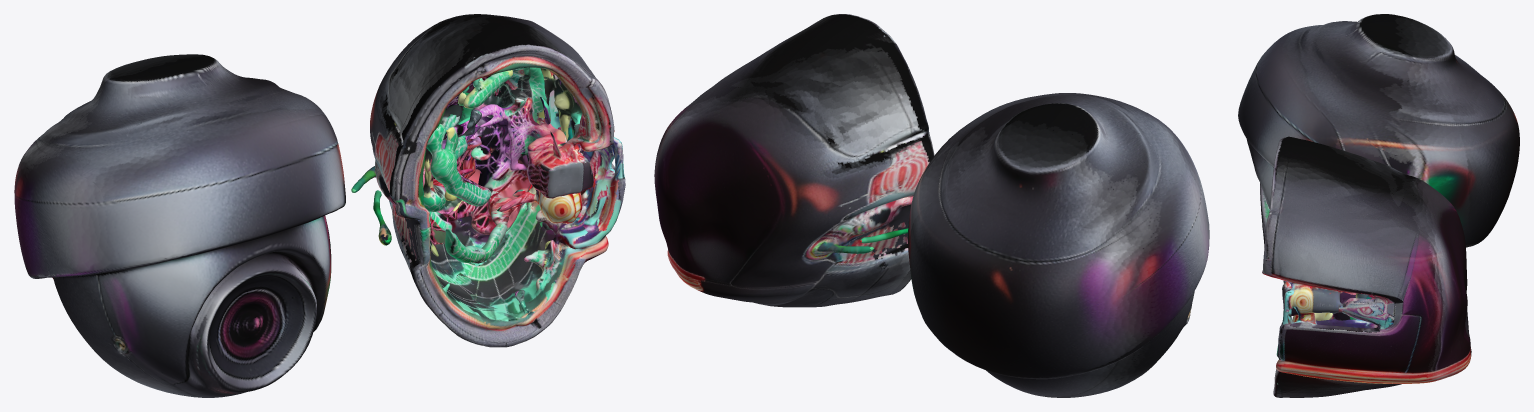
3 renders of one model, left to right at view 1: azimuth 30°, elevation 25°; view 2: azimuth 150°, elevation 25°; view 3: azimuth 270°, elevation 25°, orthographic. The views are drawn at different scales.
Parts seen in each view (by area): view 1: Mesh, Mesh.001, Mesh.003; view 2: Mesh, Mesh.001; view 3: Mesh.001, Mesh.
Part boxes in pixels (x1,y1,x2,y2): Mesh: [14, 54, 345, 397]; Mesh.001: [351, 14, 625, 347]; Mesh.003: [458, 70, 512, 108]; Mesh: [908, 93, 1209, 397]; Mesh.001: [654, 14, 934, 307]; Mesh.001: [1262, 136, 1471, 397]; Mesh: [1238, 14, 1519, 247].
Size of the model in its own units: 0.9878 by 0.5286 by 0.5238.
Materials: 1 (1 with a texture image).
